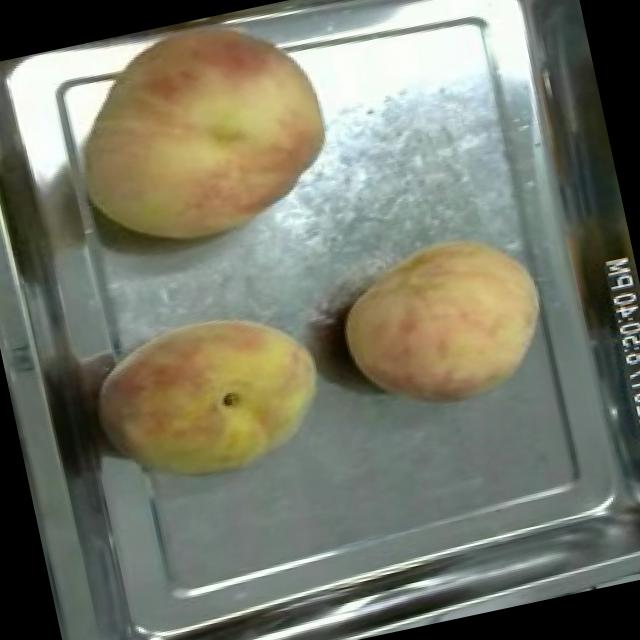Fruit: (49, 0, 354, 273), (75, 290, 336, 506), (322, 215, 562, 428)
